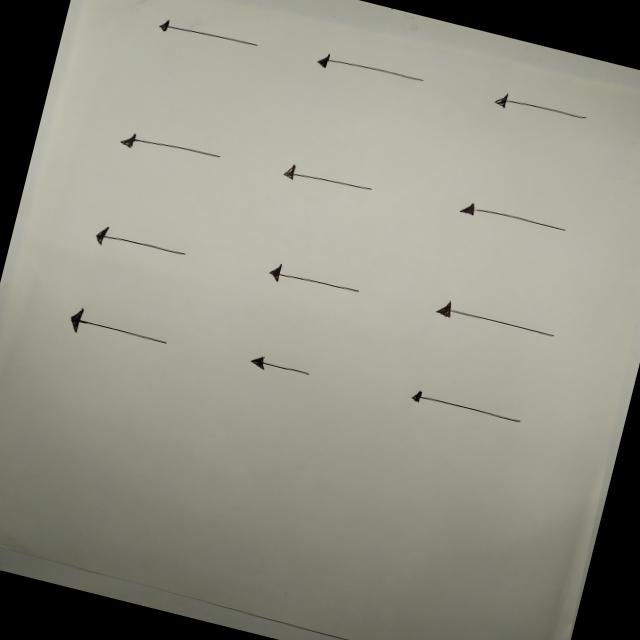arrow_line_left: (50, 299, 186, 361), (422, 293, 568, 350), (396, 380, 530, 434), (251, 252, 374, 308), (304, 44, 434, 96), (142, 8, 270, 60), (447, 194, 578, 244), (82, 218, 202, 270), (109, 124, 233, 172), (268, 156, 386, 206), (482, 84, 599, 132), (238, 348, 323, 386)
